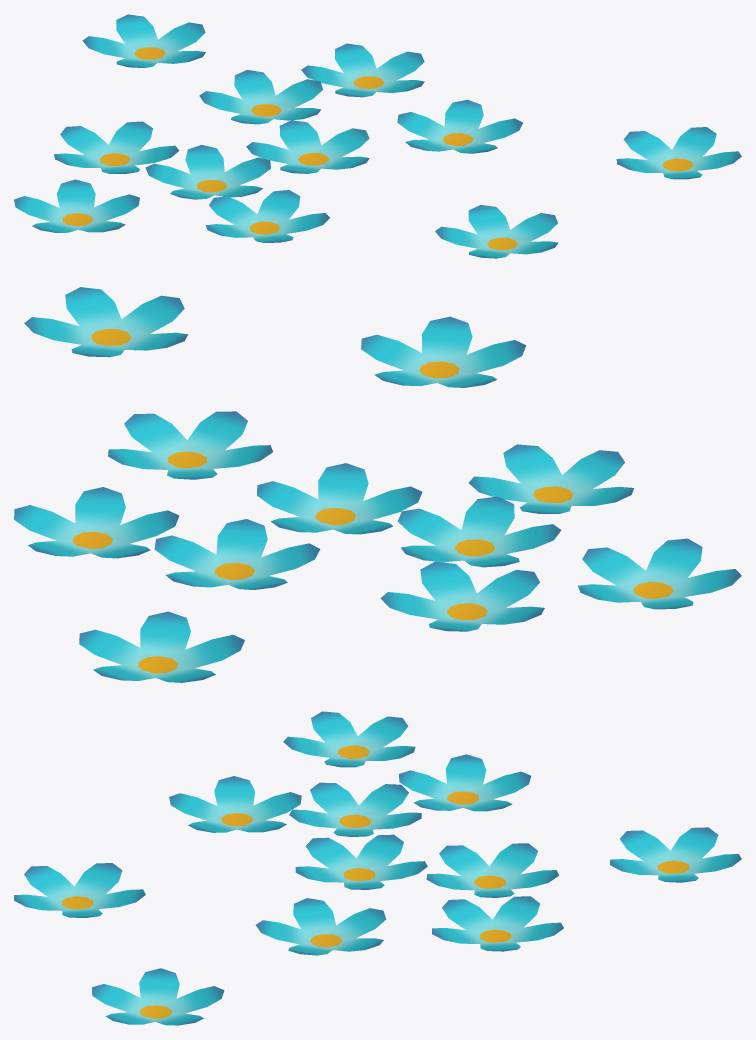
Rendered from flower_014_base_material_0.fbx.
3 renders of one model, top to bottom at view 1: azimuth 30°, elevation 25°; view 2: azimuth 150°, elevation 25°; view 3: azimuth 270°, elevation 25°, orthographic. The views are drawn at different scales.
Parts seen in each view (by area): view 1: flower_014_base_material_0; view 2: flower_014_base_material_0; view 3: flower_014_base_material_0.
Boxes of the visible parts, x1,y1,x2,y2 form: flower_014_base_material_0: [14, 14, 741, 258]; flower_014_base_material_0: [14, 287, 741, 682]; flower_014_base_material_0: [14, 711, 741, 1025].
Bounding box in the file's own units: 2.41 × 2.38 × 0.0506.
Materials: 1 (1 with a texture image).
